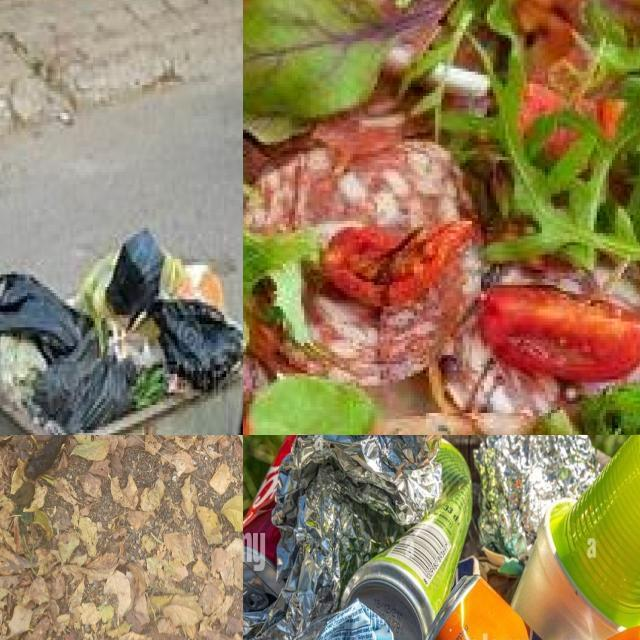Disposable: (551, 435, 640, 626)
Garbage: (243, 0, 640, 435), (243, 435, 640, 640), (0, 226, 243, 435), (0, 435, 243, 640)
Plastic_Bag: (106, 230, 241, 389), (0, 275, 134, 435)
Plastic_wraper: (243, 435, 441, 640), (475, 435, 600, 562)
can: (341, 441, 472, 640), (243, 435, 297, 613)
